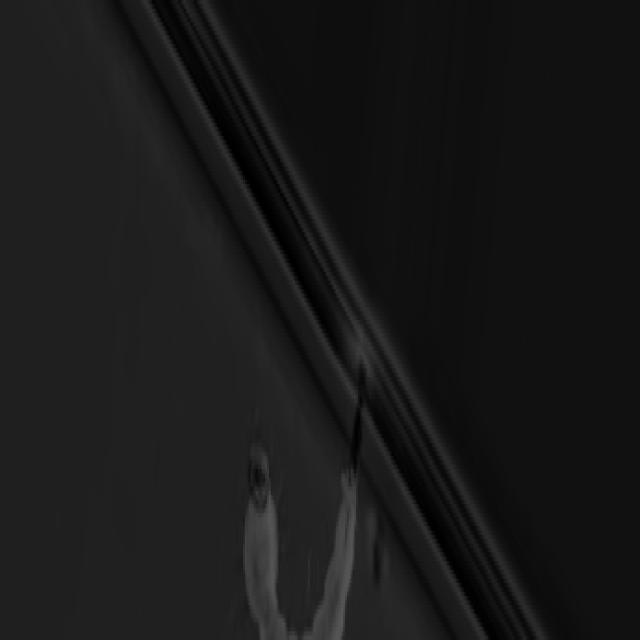larvas: (243, 390, 360, 640)
